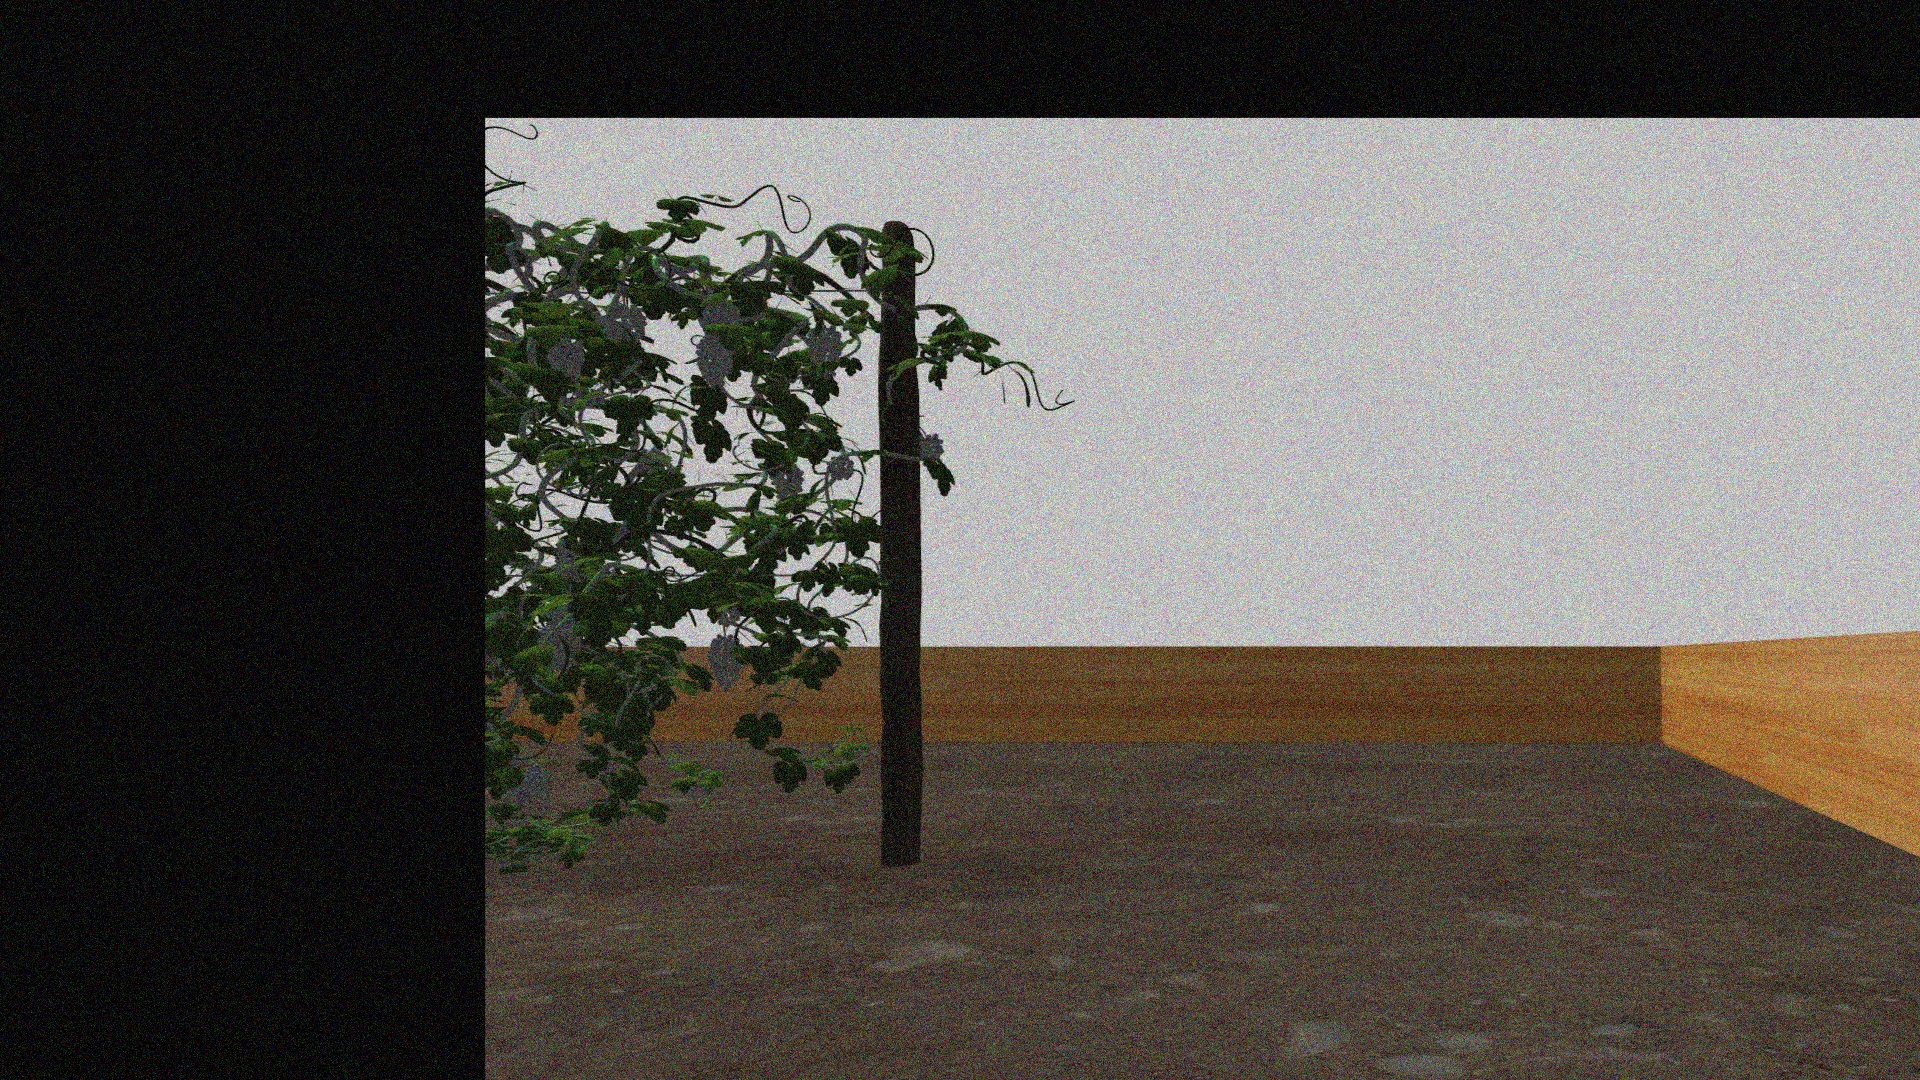grape: (705, 636, 749, 691), (539, 615, 580, 669), (695, 336, 735, 390), (804, 326, 844, 367), (512, 765, 549, 808), (769, 458, 806, 500), (547, 339, 585, 378), (703, 299, 742, 327), (920, 430, 945, 462), (828, 454, 855, 480)
